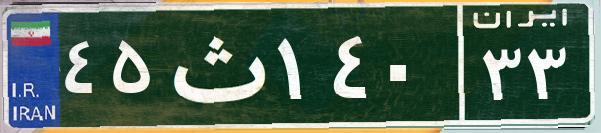0: (385, 28, 445, 110)
1: (273, 28, 330, 110)
3: (475, 38, 525, 113), (525, 38, 570, 115)
4: (330, 28, 385, 110), (57, 26, 110, 107)
5: (110, 28, 158, 105)
ث: (158, 15, 273, 115)
